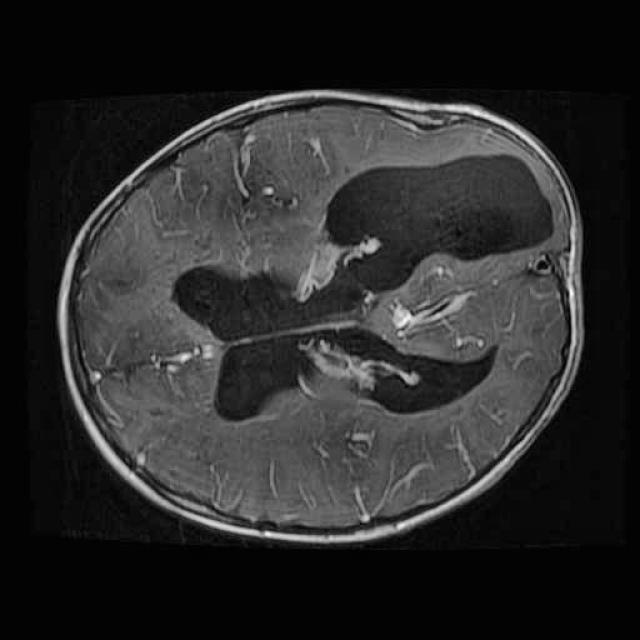Non-Tumor: (304, 138, 571, 303)
